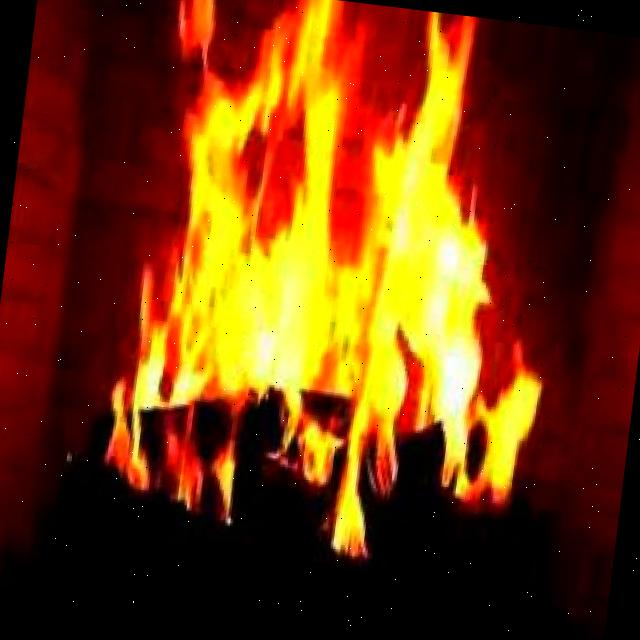fire: (124, 5, 565, 471)
